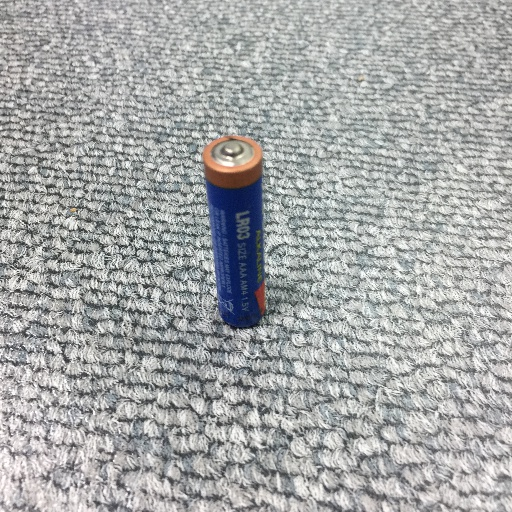Battery_0: (196, 130, 281, 336)
